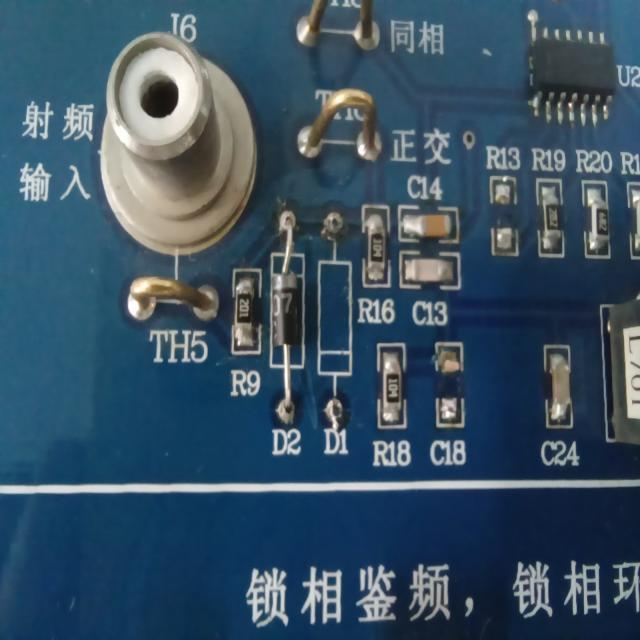Missing component: (314, 204, 361, 463), (428, 335, 480, 467), (476, 137, 528, 266)
